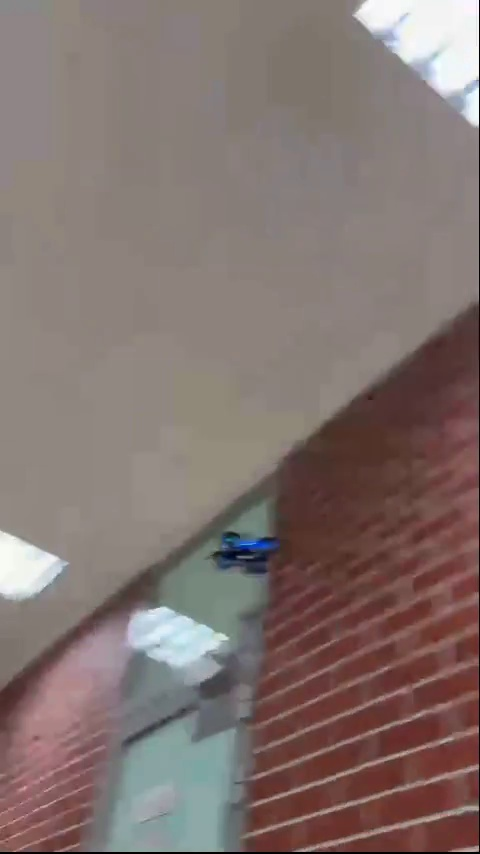drone: (215, 524, 282, 575)
